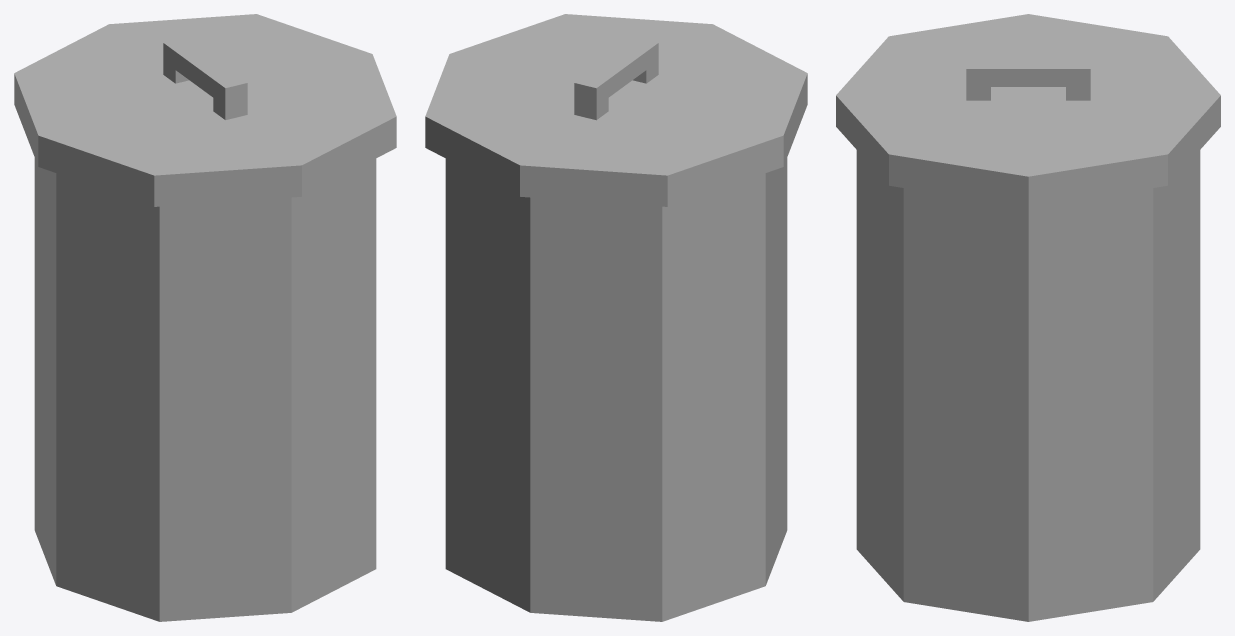
File: trashcan-by-poly-by-google-1ipKwL6vUV_.glb
3 renders of one model, left to right at view 1: azimuth 30°, elevation 25°; view 2: azimuth 150°, elevation 25°; view 3: azimuth 270°, elevation 25°, orthographic.
Parts seen in each view (by area): view 1: TRASH_CAN_Cube.037; view 2: TRASH_CAN_Cube.037; view 3: TRASH_CAN_Cube.037.
Boxes of the visible parts, x1,y1,x2,y2 form: TRASH_CAN_Cube.037: [14, 14, 396, 621]; TRASH_CAN_Cube.037: [425, 14, 807, 621]; TRASH_CAN_Cube.037: [836, 14, 1220, 621].
Size of the model in its own units: 2.45 by 3.42 by 2.45.
1 material, 1 textured.
